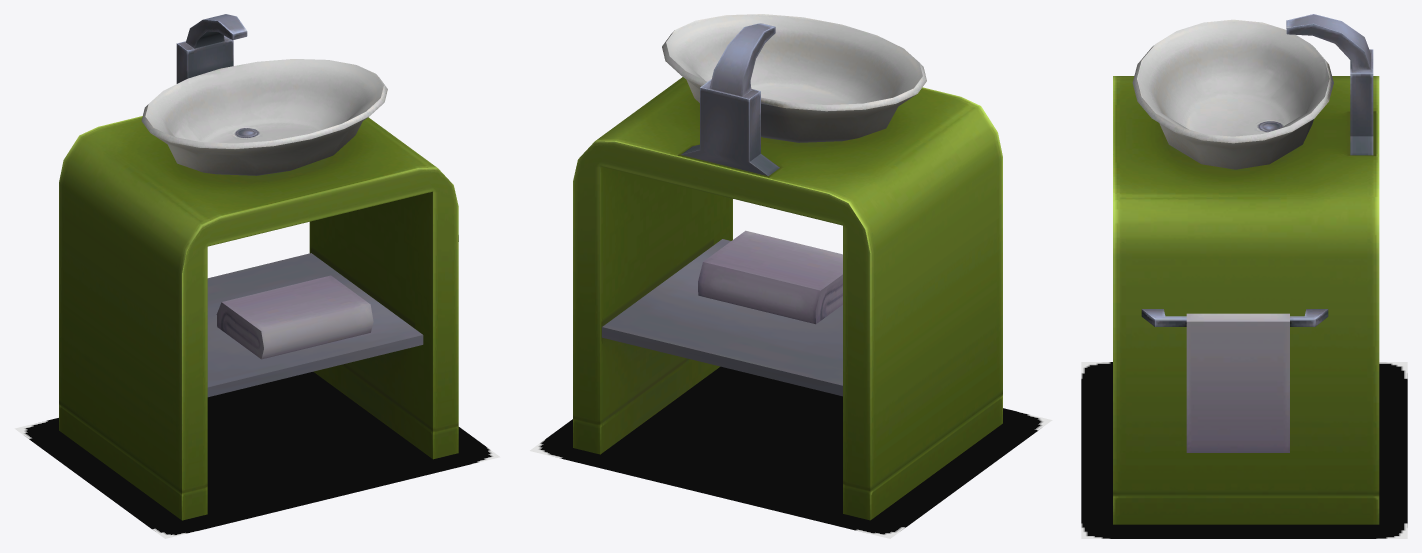
The model's file is jj_ty_xishouchi02.FBX.
3 views of the same model, side by side, from view 1: azimuth 30°, elevation 25°; view 2: azimuth 150°, elevation 25°; view 3: azimuth 270°, elevation 25° (orthographic). The views are drawn at different scales.
Visible parts, largest first — view 1: jj_ty_xishouchi02, shadow; view 2: jj_ty_xishouchi02, shadow; view 3: jj_ty_xishouchi02, shadow.
Part boxes in pixels (box(x1,y1,x2,y2)): jj_ty_xishouchi02: box(59, 14, 458, 520); shadow: box(14, 372, 500, 538); jj_ty_xishouchi02: box(573, 14, 1002, 520); shadow: box(530, 366, 1052, 538); jj_ty_xishouchi02: box(1113, 14, 1379, 524); shadow: box(1081, 362, 1407, 538).
Size of the model in its own units: 97.32 by 112 by 75.81.
